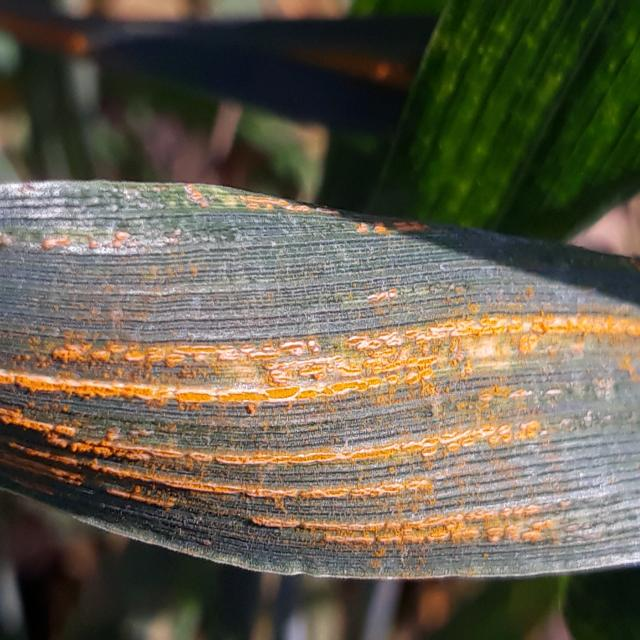yellow_rust: (1, 184, 638, 575), (274, 33, 406, 103), (0, 2, 102, 80)
